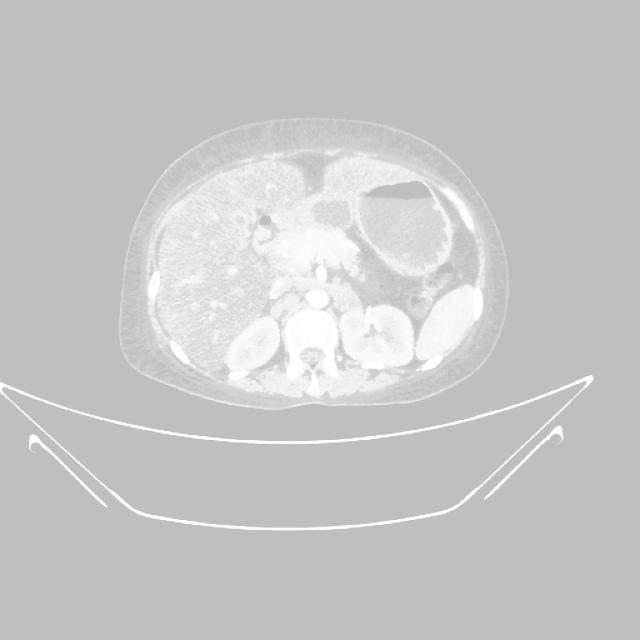NORMAL: (102, 116, 532, 405)
